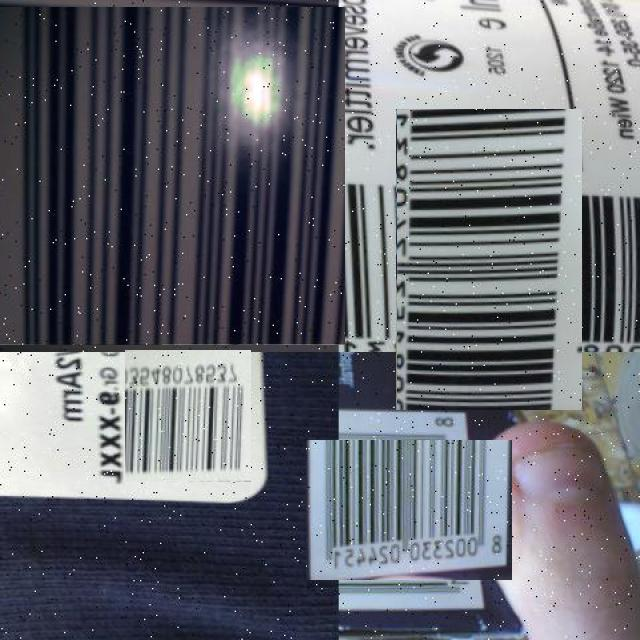Barcode: (0, 4, 342, 349), (367, 138, 611, 382), (323, 423, 496, 597), (123, 351, 252, 480)
